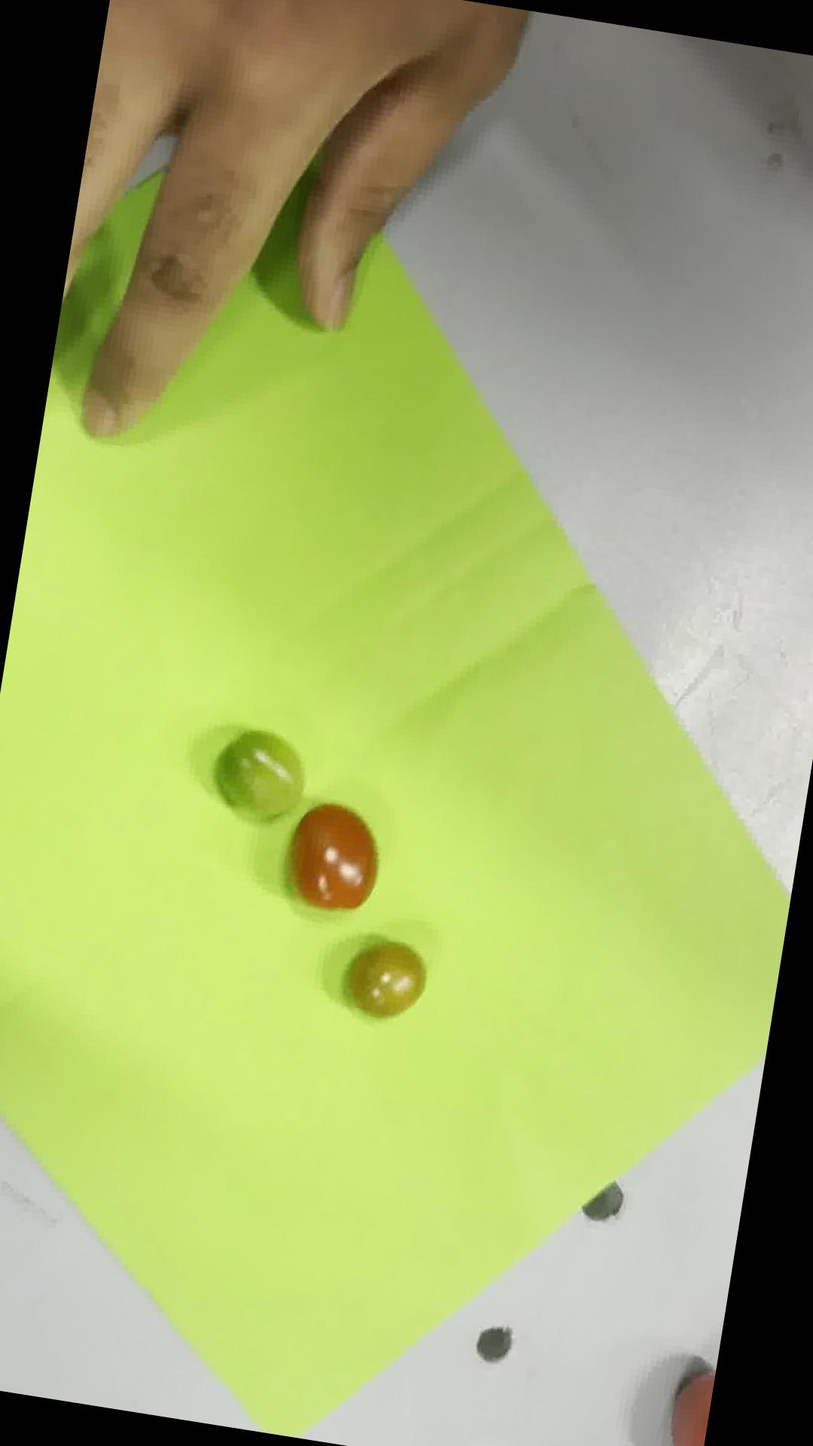green_cherry_tomato: (213, 729, 304, 821)
red_cherry_tomato: (289, 803, 378, 910)
yellow_cherry_tomato: (348, 941, 425, 1017)
